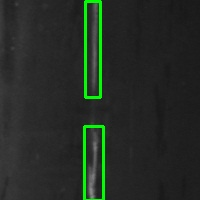scratches: (85, 1, 100, 97), (84, 126, 103, 200)
